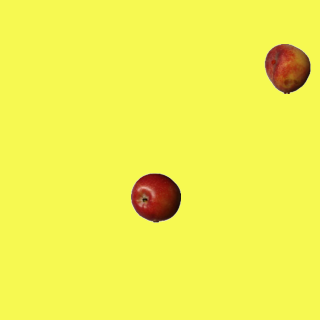Apple Braeburn: (130, 172, 180, 222)
Peach: (262, 43, 312, 93)
